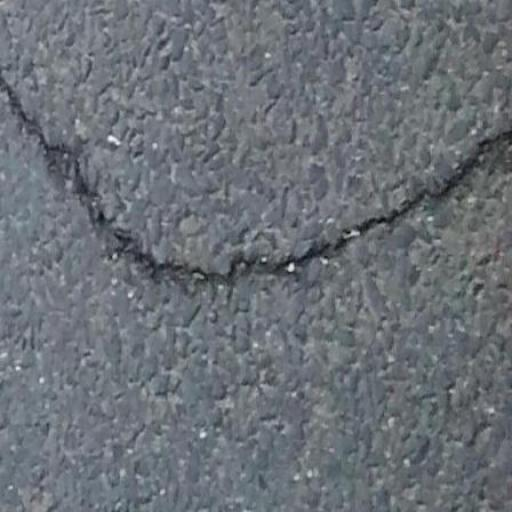spalling: (1, 73, 512, 299)
